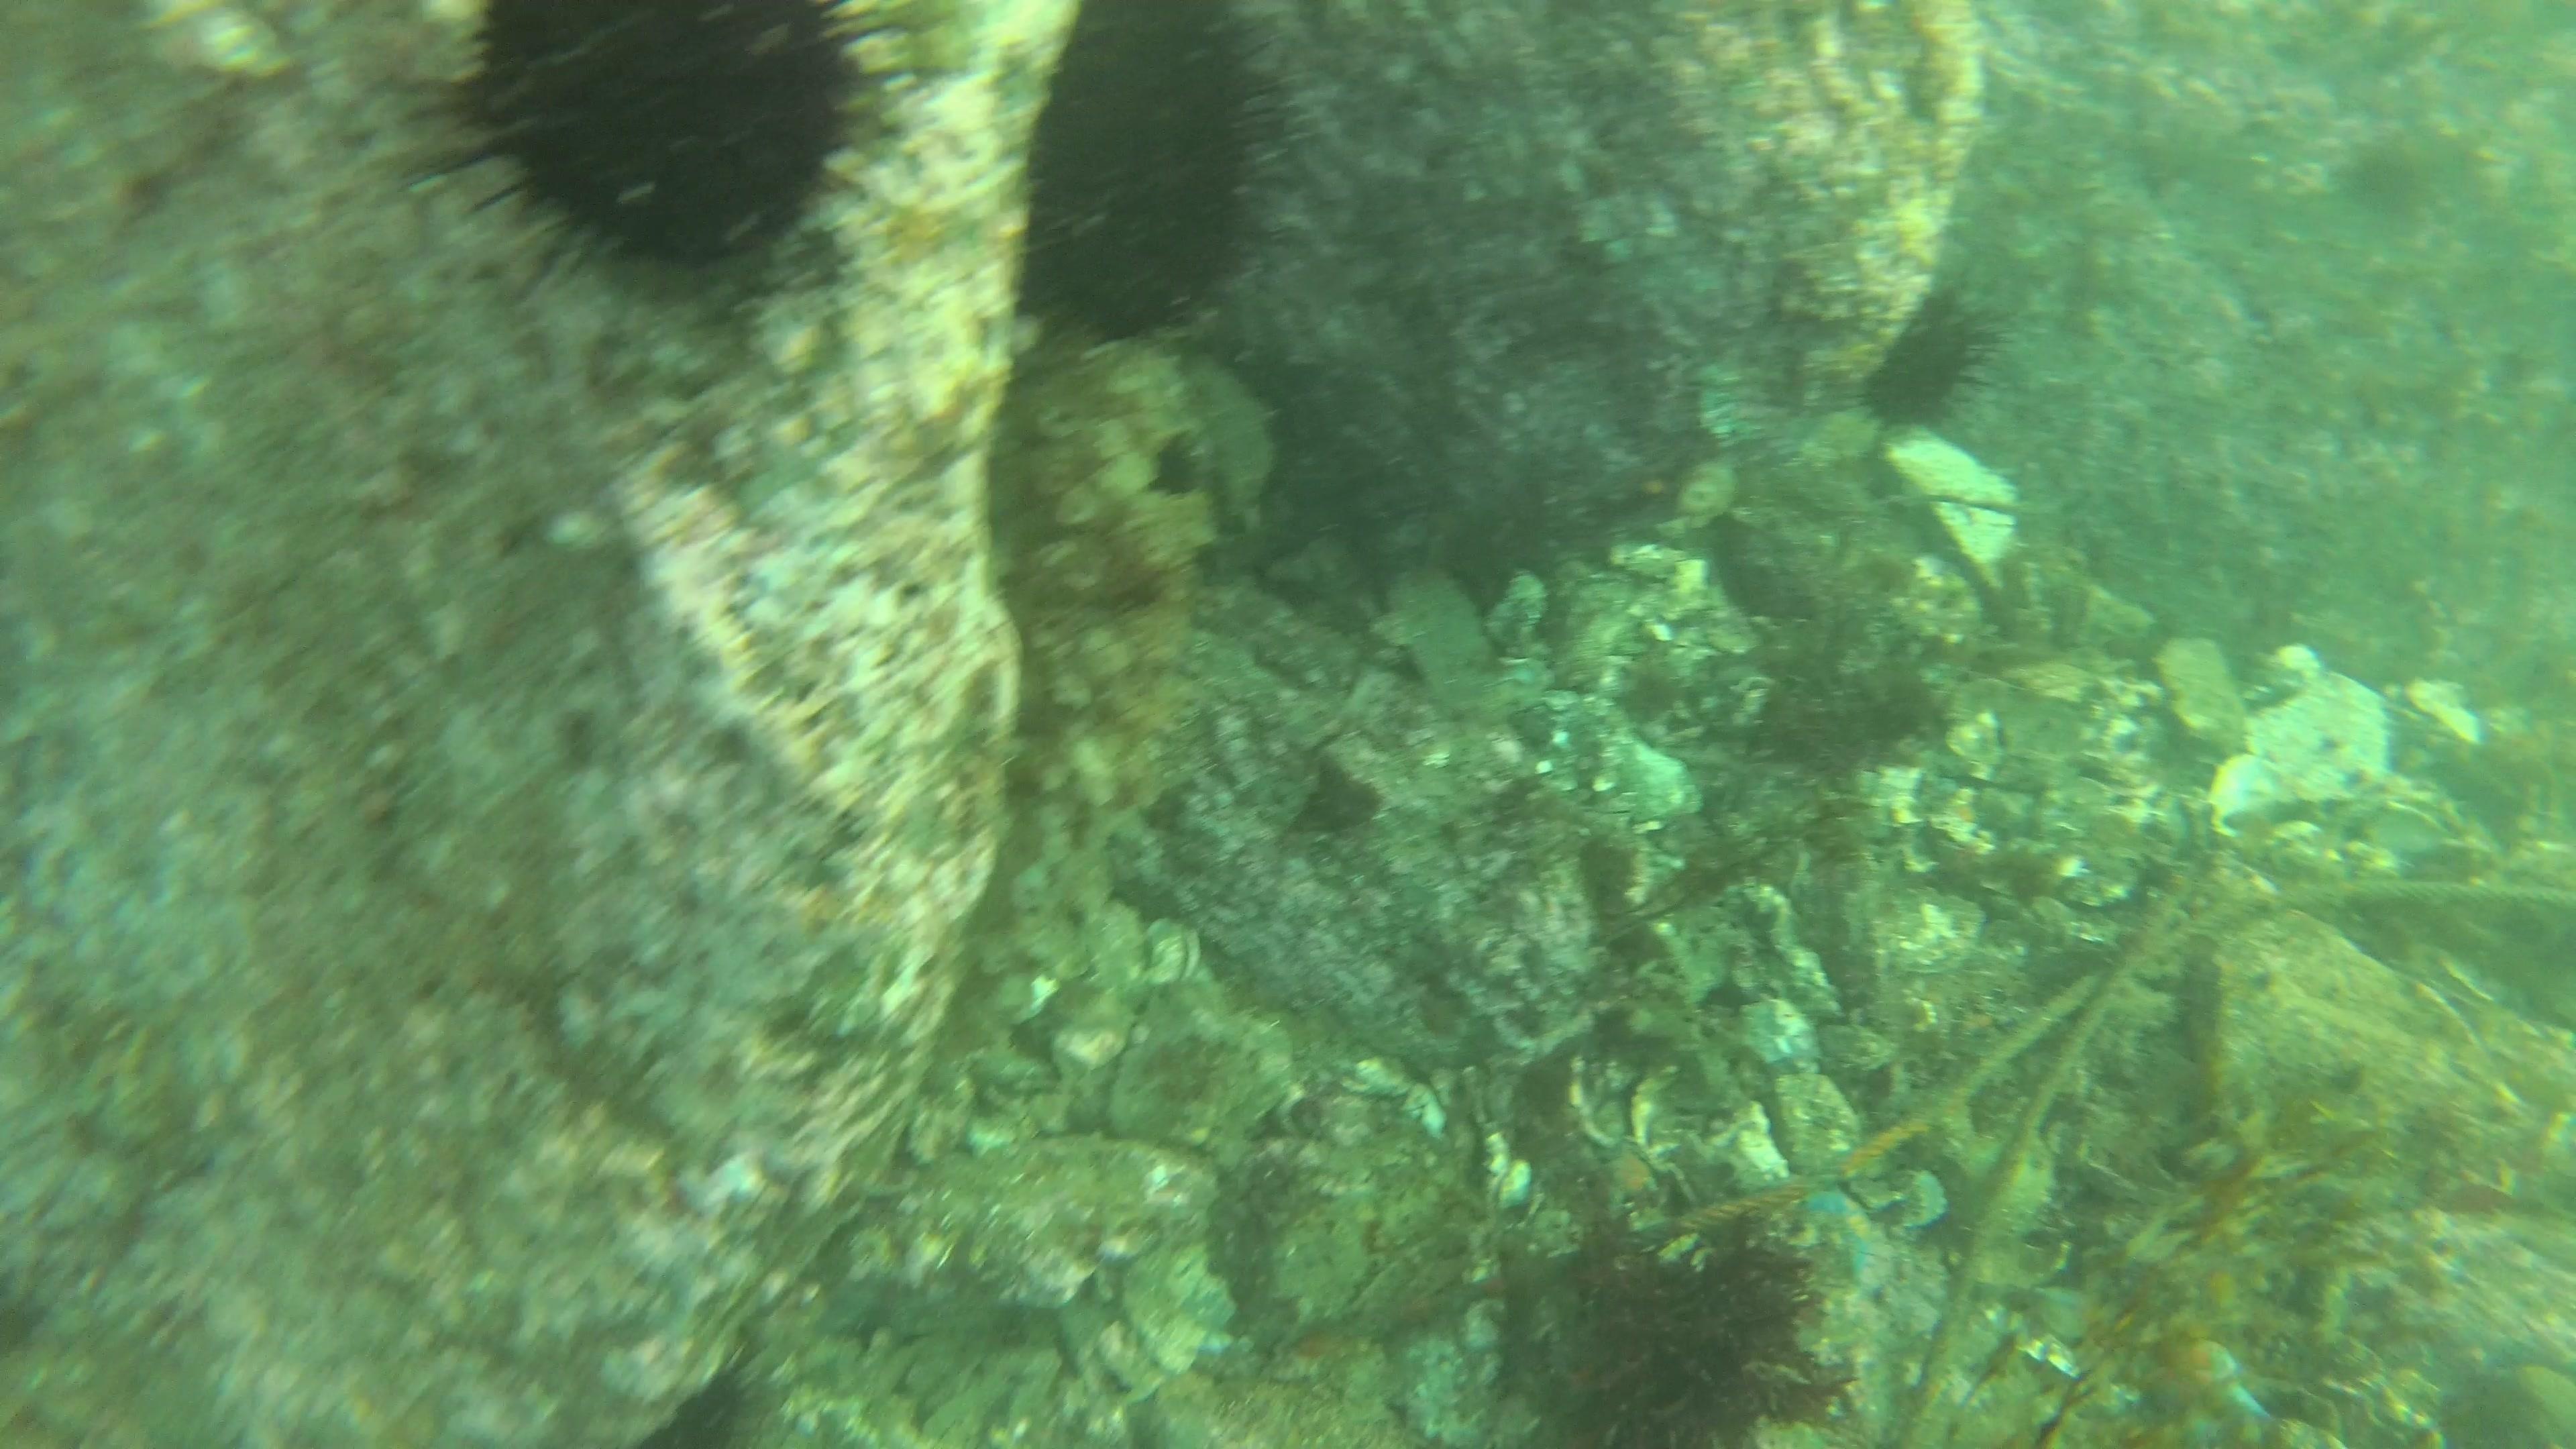echinus: (409, 4, 906, 288), (996, 4, 1309, 347), (1854, 287, 2003, 437), (2334, 133, 2442, 230)
starfish: (2135, 1327, 2258, 1438), (1798, 1166, 1879, 1270)
